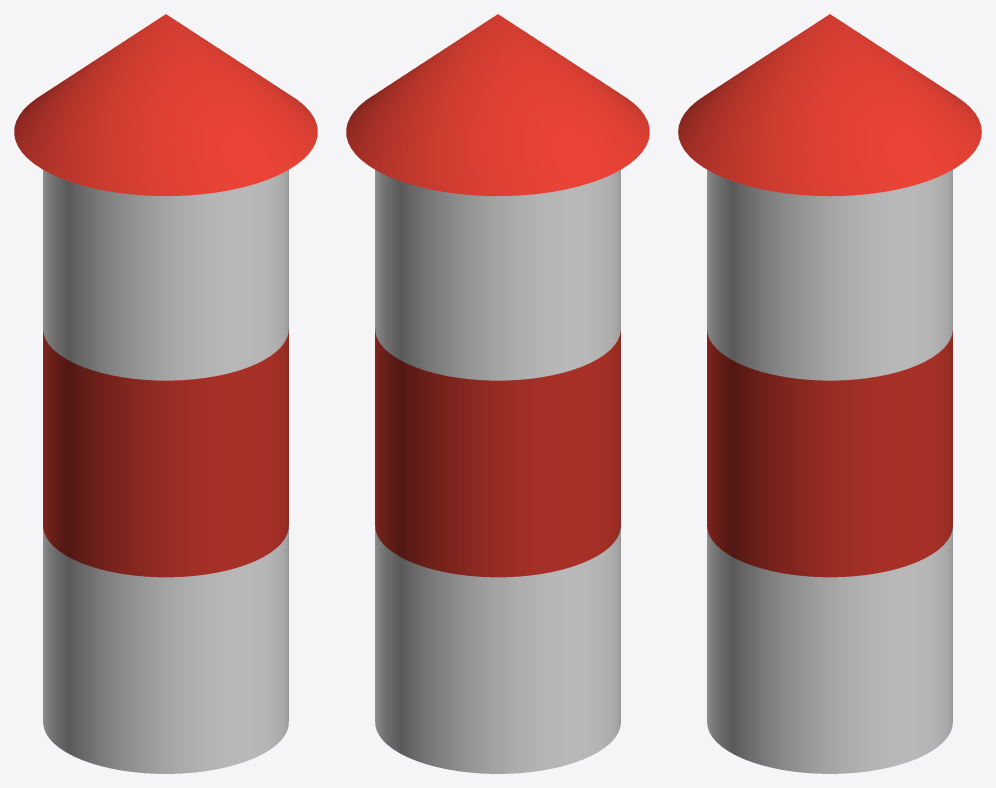
Rendered from lighthouse.glb.
3 renders of one model, left to right at view 1: azimuth 30°, elevation 25°; view 2: azimuth 150°, elevation 25°; view 3: azimuth 270°, elevation 25°, orthographic.
Parts seen in each view (by area): view 1: Tower1, Tower0, Tower2, LighthouseRoof; view 2: Tower1, Tower0, Tower2, LighthouseRoof; view 3: Tower1, Tower0, Tower2, LighthouseRoof.
Boxes of the visible parts, box(x1,y1,x2,y2) form: Tower1: box(43, 329, 288, 577); Tower0: box(43, 526, 288, 773); Tower2: box(43, 170, 288, 380); LighthouseRoof: box(14, 14, 317, 196); Tower1: box(375, 329, 620, 577); Tower0: box(375, 526, 620, 773); Tower2: box(375, 170, 620, 380); LighthouseRoof: box(346, 14, 649, 196); Tower1: box(707, 330, 952, 577); Tower0: box(707, 527, 952, 773); Tower2: box(707, 170, 952, 380); LighthouseRoof: box(678, 14, 981, 196).
Bounding box in the file's own units: 2.1 × 5.4 × 2.1.
